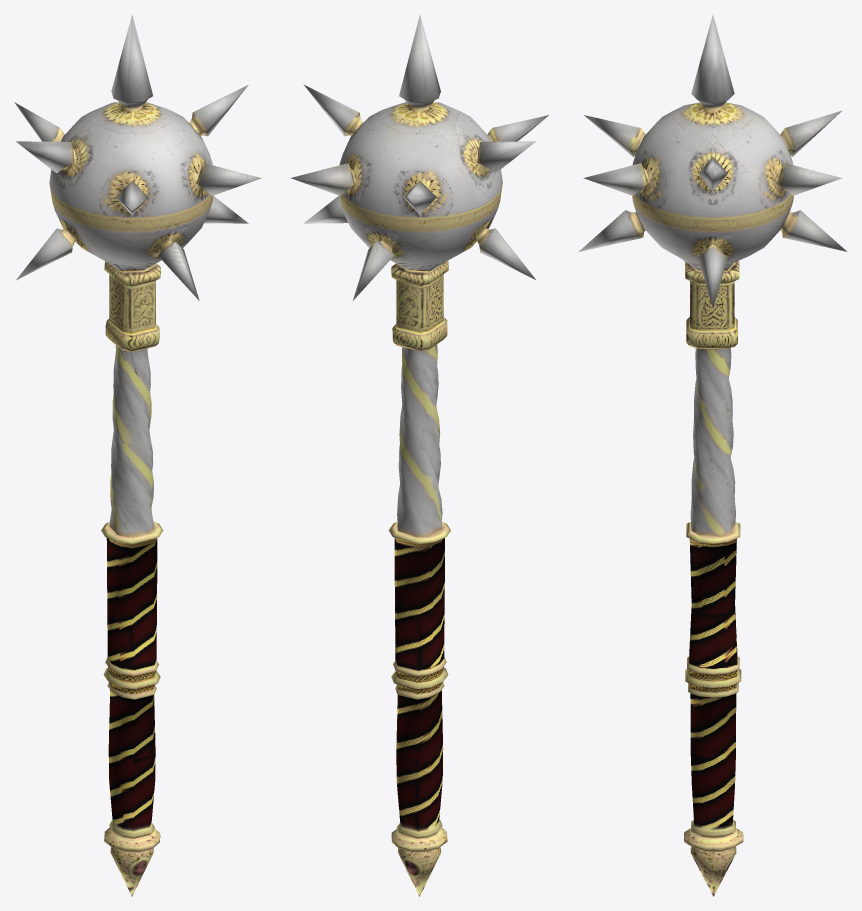
The model's file is w_mace_t3.glb.
3 renders of one model, left to right at view 1: azimuth 30°, elevation 25°; view 2: azimuth 150°, elevation 25°; view 3: azimuth 270°, elevation 25°, orthographic.
Parts seen in each view (by area): view 1: Mace:0; view 2: Mace:0; view 3: Mace:0.
Boxes of the visible parts, x1,y1,x2,y2 form: Mace:0: (14,14,261,896); Mace:0: (291,15,548,896); Mace:0: (579,15,847,896).
Bounding box in the file's own units: 14.56 × 52.63 × 14.56.
Materials: 1 (1 with a texture image).
